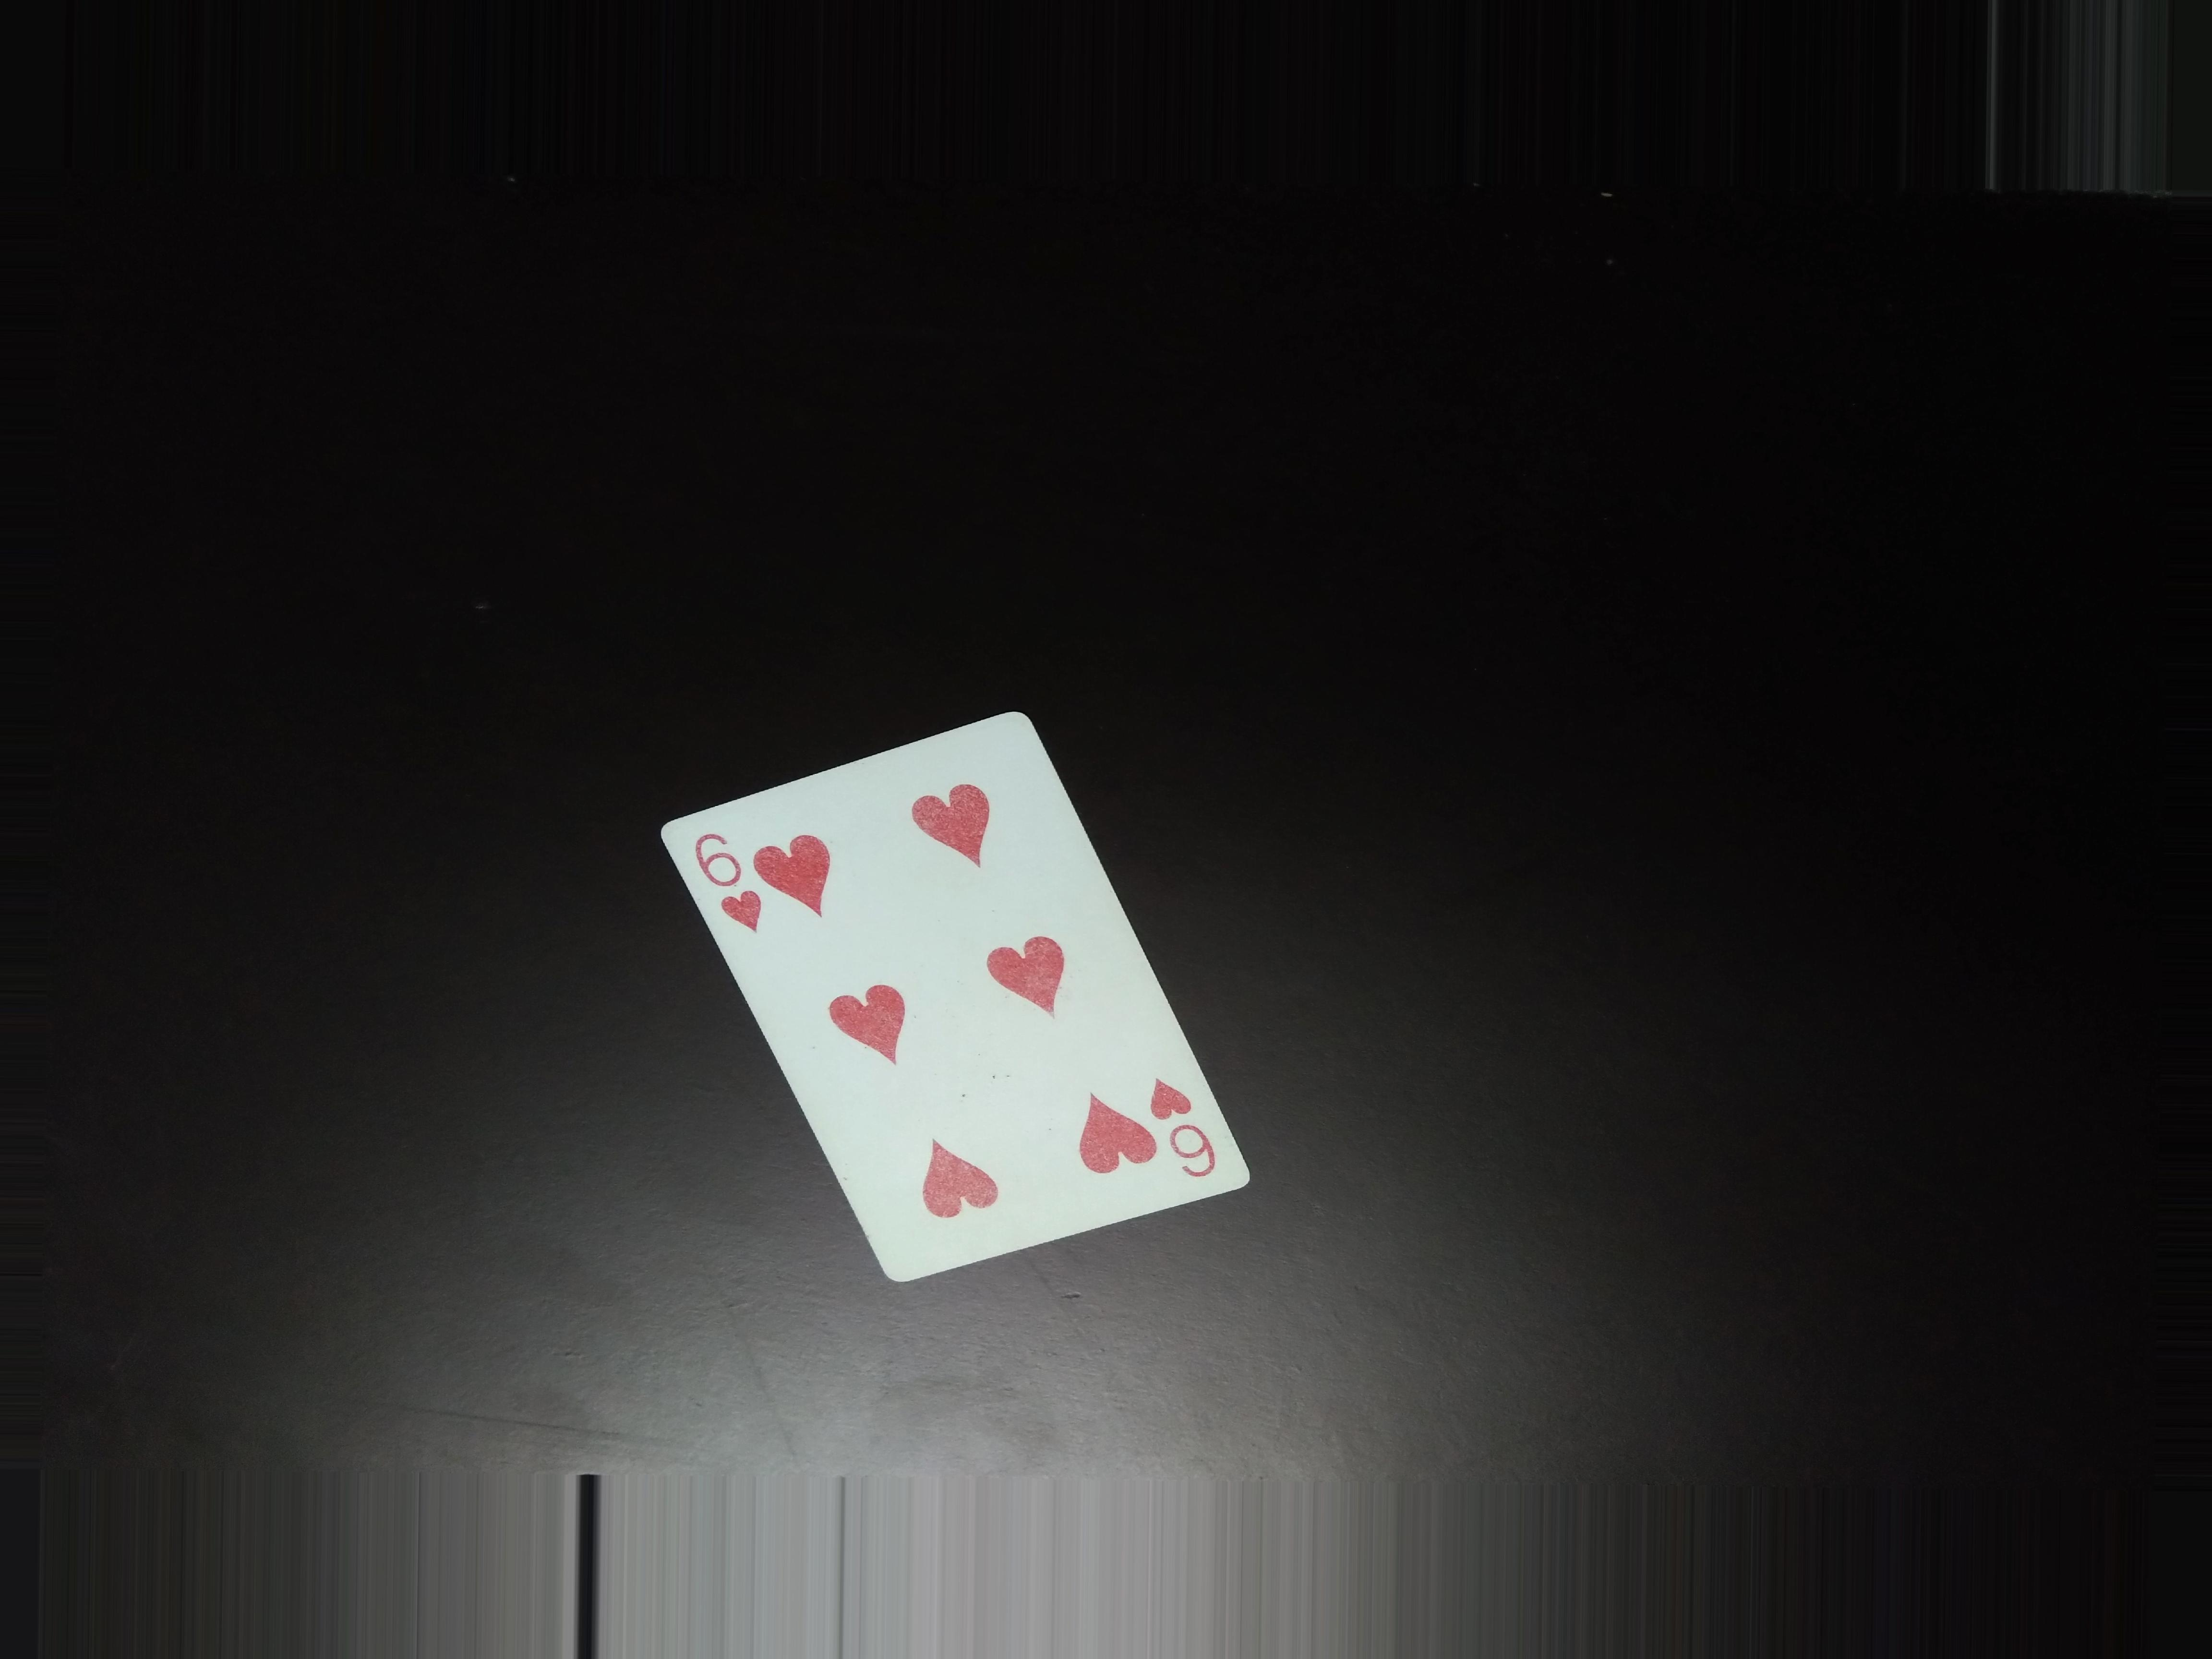6H: (1148, 1058, 1216, 1192)
